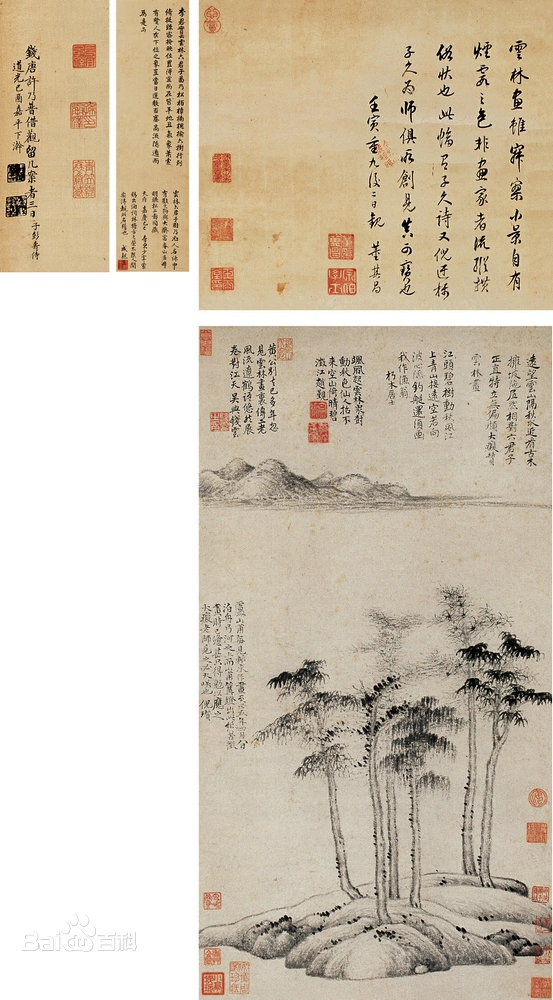hill: (203, 452, 545, 527)
pine: (262, 581, 553, 926)
rock: (218, 878, 548, 982)
